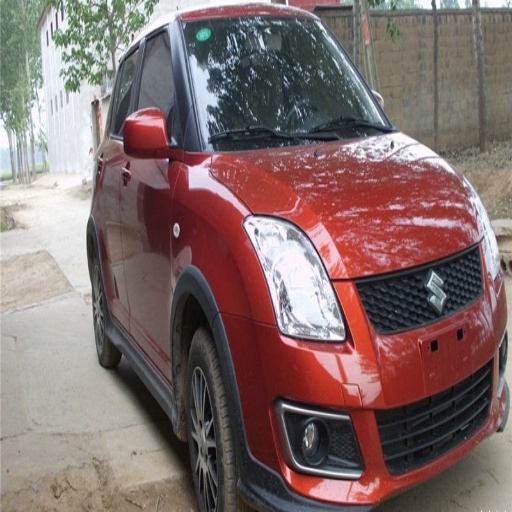front_bumper: (225, 252, 508, 511)
front_right_door: (121, 27, 200, 364)
front_right_light: (243, 216, 352, 343)
